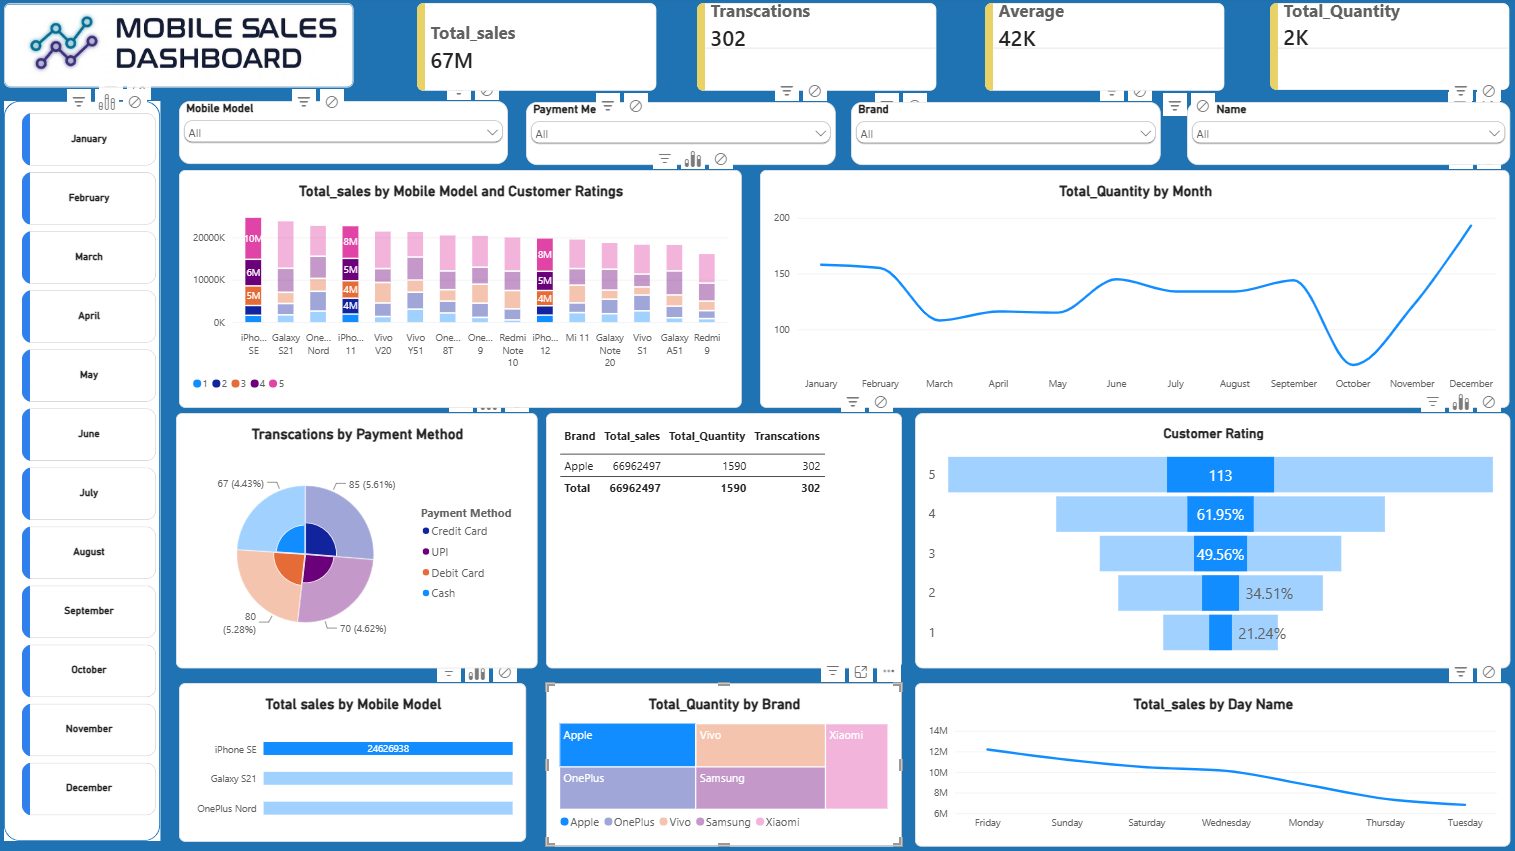

Layout of this report page (visuals, bound fields, positions):
{"tool":"powerbi","page":{"name":"Page 1","canvas":[1920,1080],"ordinal":0},"visuals":[{"type":"group","id":"g1","title":"Group 1","box":[12.1,130.6,195.5,927.1],"z":0,"group":"g4"},{"type":"group","id":"g2","title":"Group 2","box":[12.1,130.6,195.3,927.8],"z":0},{"type":"cardVisual","fields":{"Data":["Sales_data mobile.Total_Quantity"]},"box":[1598.5,8.1,300,109.1],"z":1000},{"type":"advancedSlicerVisual","fields":{"Values":["Sales_data mobile.Date.Variation.Date Hierarchy.Month"]},"box":[34.9,145.9,168.2,886.1],"z":1000,"group":"g4"},{"type":"cardVisual","fields":{"Data":["Sales_data mobile.Transcations"]},"box":[880.7,8.1,300,110.4],"z":2000},{"type":"shape","box":[12.1,130.6,195.5,927.1],"z":3000,"group":"g1"},{"type":"lineChart","fields":{"Category":["Sales_data mobile.Date.Variation.Date Hierarchy.Month"],"Y":["Sales_data mobile.Total_Quantity"]},"box":[960.1,216.8,939.5,297.5],"z":3000},{"type":"group","id":"g3","title":"Group 3","box":[12.1,130.6,194.9,926.6],"z":3004,"group":"g2"},{"type":"group","id":"g4","title":"Group 5","box":[12.1,130.6,194.9,926.6],"z":3005,"group":"g3"},{"type":"funnel","title":"Customer Rating","fields":{"Category":["Sales_data mobile.Customer Ratings"],"Y":["CountNonNull(Sales_data mobile.Customer Ratings)"]},"box":[1153.5,521.8,746,319.5],"z":4000},{"type":"hundredPercentStackedBarChart","title":"Total sales by Mobile Model ","fields":{"Category":["Sales_data mobile.Mobile Model"],"Y":["Sales_data mobile.Total_sales"]},"box":[231.6,858.9,435.3,199.3],"z":5000},{"type":"slicer","fields":{"Values":["Sales_data mobile.Mobile Model"]},"box":[231.6,130.6,411.8,79.1],"z":6000},{"type":"slicer","fields":{"Values":["Sales_data mobile.Payment Method"]},"box":[666.9,131.9,388.4,79.1],"z":7000},{"type":"slicer","fields":{"Values":["Sales_data mobile.Brand"]},"box":[1074.3,131.9,388.4,79.1],"z":8000},{"type":"slicer","fields":{"Values":["Sales_data mobile.Day Name"]},"box":[1495,131.9,404.5,79.1],"z":9000},{"type":"tableEx","fields":{"Values":["Sales_data mobile.Brand","Sales_data mobile.Total_sales","Sales_data mobile.Total_Quantity","Sales_data mobile.Transcations"]},"box":[691.8,521.8,445.6,319.5],"z":10000},{"type":"pieChart","fields":{"Category":["Sales_data mobile.Payment Method"],"Y":["Sales_data mobile.Transcations"]},"box":[228.6,521.8,452.9,319.5],"z":11000},{"type":"lineChart","fields":{"Category":["Sales_data mobile.Day Name"],"Y":["Sales_data mobile.Total_sales"]},"box":[1153.5,858.9,746,205.2],"z":12000},{"type":"columnChart","fields":{"Category":["Sales_data mobile.Mobile Model"],"Series":["Sales_data mobile.Customer Ratings"],"Y":["Sales_data mobile.Total_sales"]},"box":[231.6,216.9,705,297.5],"z":13000},{"type":"treemap","fields":{"Group":["Sales_data mobile.Brand"],"Values":["Sales_data mobile.Total_Quantity"]},"box":[691.8,858.9,445.6,205.2],"z":14000},{"type":"cardVisual","fields":{"Data":["Sales_data mobile.Average"]},"box":[1241.6,8.1,300,110.4],"z":15000},{"type":"cardVisual","fields":{"Data":["Sales_data mobile.Total_sales"]},"box":[530.6,8.1,300,110.4],"z":17000},{"type":"image","box":[9.4,12.1,437.7,106.4],"z":18001}]}

Visuals, with their boxes in screenshot pixels (x1, y1, x2, y2), scaled from the page's 1920x1080 canvas onto the 1515x851 screenshot:
"Group 1" group: l=10, t=103, r=164, b=833
"Group 2" group: l=10, t=103, r=164, b=834
cardVisual - Sales_data mobile.Total_Quantity: l=1261, t=6, r=1498, b=92
advancedSlicerVisual - Sales_data mobile.Date.Variation.Date Hierarchy.Month: l=28, t=115, r=160, b=813
cardVisual - Sales_data mobile.Transcations: l=695, t=6, r=932, b=93
shape: l=10, t=103, r=164, b=833
lineChart - Sales_data mobile.Date.Variation.Date Hierarchy.Month x Sales_data mobile.Total_Quantity: l=758, t=171, r=1499, b=405
"Group 3" group: l=10, t=103, r=163, b=833
"Group 5" group: l=10, t=103, r=163, b=833
"Customer Rating" funnel: l=910, t=411, r=1499, b=663
"Total sales by Mobile Model " hundredPercentStackedBarChart: l=183, t=677, r=526, b=834
slicer - Sales_data mobile.Mobile Model: l=183, t=103, r=508, b=165
slicer - Sales_data mobile.Payment Method: l=526, t=104, r=833, b=166
slicer - Sales_data mobile.Brand: l=848, t=104, r=1154, b=166
slicer - Sales_data mobile.Day Name: l=1180, t=104, r=1499, b=166
tableEx - Sales_data mobile.Brand x Sales_data mobile.Total_sales: l=546, t=411, r=897, b=663
pieChart - Sales_data mobile.Payment Method x Sales_data mobile.Transcations: l=180, t=411, r=538, b=663
lineChart - Sales_data mobile.Day Name x Sales_data mobile.Total_sales: l=910, t=677, r=1499, b=838
columnChart - Sales_data mobile.Mobile Model x Sales_data mobile.Customer Ratings: l=183, t=171, r=739, b=405
treemap - Sales_data mobile.Brand x Sales_data mobile.Total_Quantity: l=546, t=677, r=897, b=838
cardVisual - Sales_data mobile.Average: l=980, t=6, r=1216, b=93
cardVisual - Sales_data mobile.Total_sales: l=419, t=6, r=655, b=93
image: l=7, t=10, r=353, b=93
